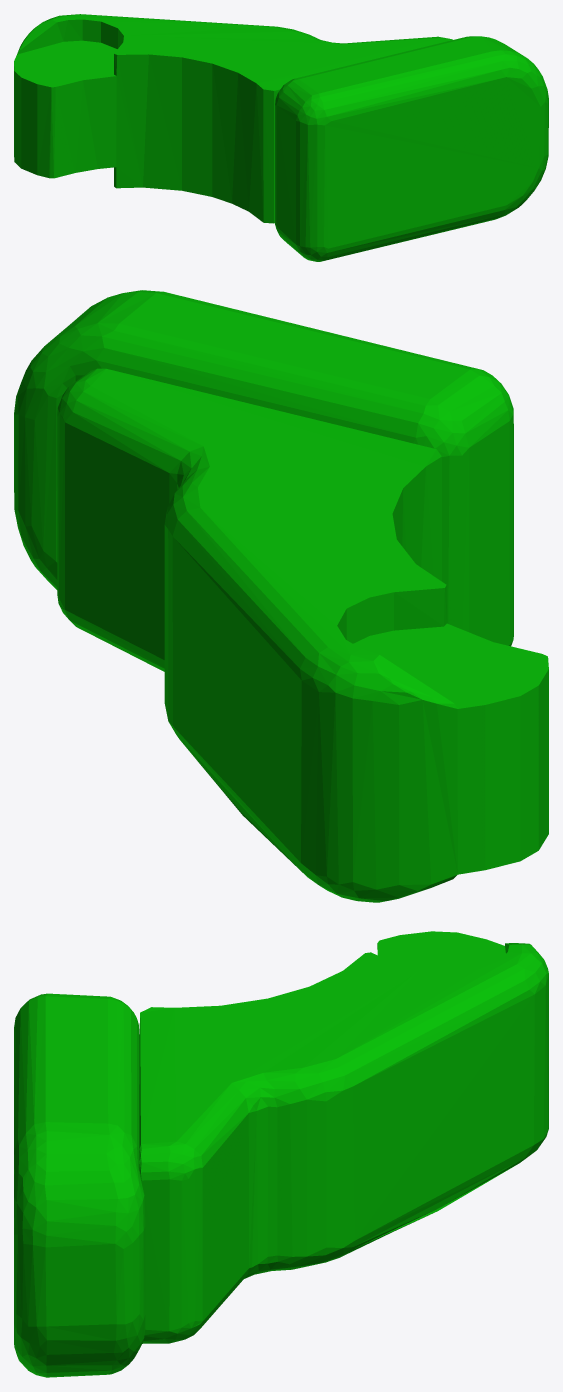
File: l_finger_tip.gltf
3 renders of one model, top to bottom at view 1: azimuth 30°, elevation 25°; view 2: azimuth 150°, elevation 25°; view 3: azimuth 270°, elevation 25°, orthographic. The views are drawn at different scales.
Visible parts, largest first — view 1: Node; view 2: Node; view 3: Node.
Part boxes in pixels (x1=…): Node: x1=14, y1=14, x2=548, y2=261; Node: x1=14, y1=290, x2=548, y2=902; Node: x1=14, y1=931, x2=548, y2=1377.
Size of the model in its own units: 0.0568 by 0.023 by 0.0447.
